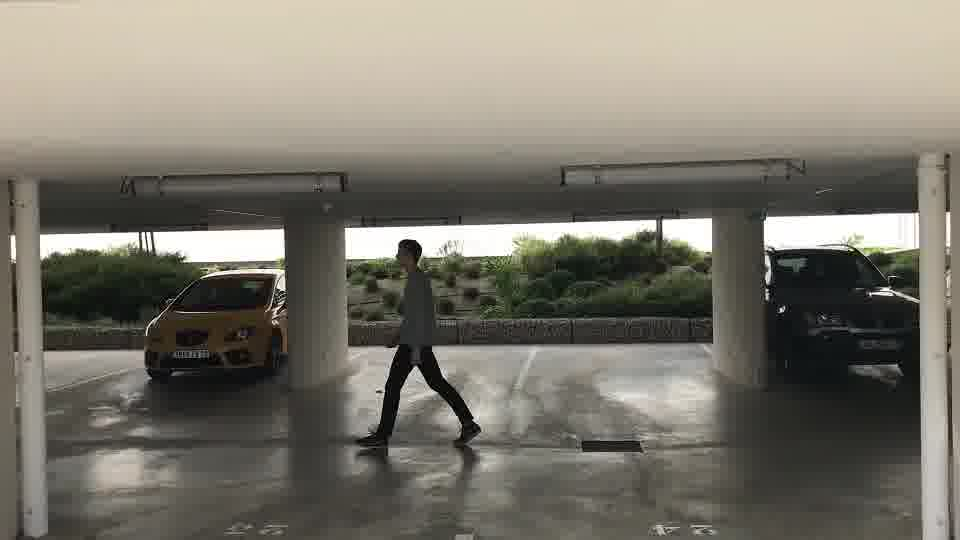jugador: (354, 234, 482, 453)
